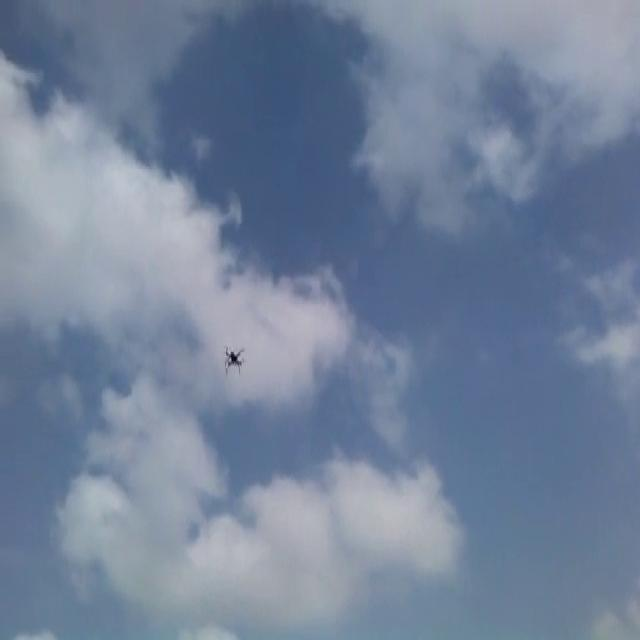drone: (221, 343, 246, 373)
